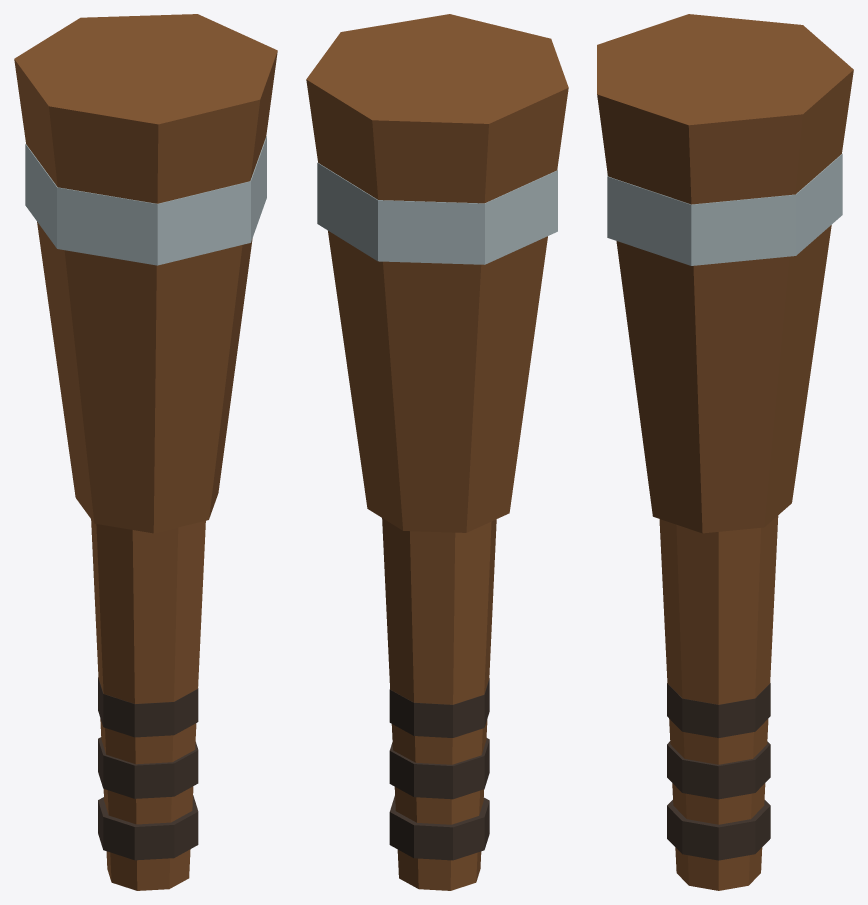
The model's file is club.glb.
3 renders of one model, left to right at view 1: azimuth 30°, elevation 25°; view 2: azimuth 150°, elevation 25°; view 3: azimuth 270°, elevation 25°, orthographic.
Parts seen in each view (by area): view 1: Club head, Club grip, Iron collar, Leather grip, Leather grip.001, Leather grip.002; view 2: Club head, Club grip, Iron collar, Leather grip, Leather grip.001, Leather grip.002; view 3: Club head, Club grip, Iron collar, Leather grip, Leather grip.001, Leather grip.002.
Boxes of the visible parts, x1,y1,x2,y2 form: Club head: (14, 14, 277, 533); Club grip: (91, 519, 205, 890); Iron collar: (25, 136, 266, 265); Leather grip: (98, 795, 198, 860); Leather grip.001: (98, 737, 198, 798); Leather grip.002: (98, 677, 198, 737); Club head: (306, 14, 568, 532); Club grip: (382, 518, 496, 890); Iron collar: (317, 162, 557, 264); Leather grip: (389, 796, 489, 860); Leather grip.001: (389, 738, 489, 799); Leather grip.002: (389, 678, 489, 737); Club head: (597, 14, 853, 533); Club grip: (659, 515, 778, 890); Iron collar: (607, 153, 842, 265); Leather grip: (667, 800, 770, 860); Leather grip.001: (667, 741, 770, 799); Leather grip.002: (667, 683, 770, 737).
Size of the model in its own units: 0.468 by 1.58 by 0.4562.
